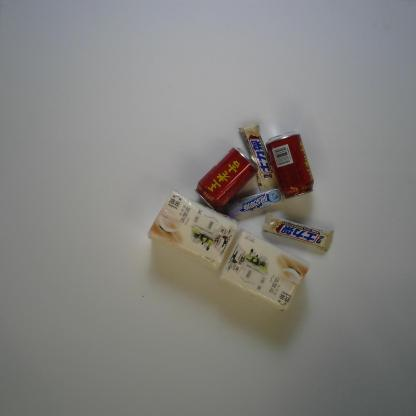Candy: (224, 185, 285, 218)
Chocolate: (238, 121, 279, 194), (262, 212, 334, 252)
Drink: (194, 146, 259, 214), (266, 130, 314, 200)
Tissue: (217, 229, 311, 311), (147, 189, 239, 270)
